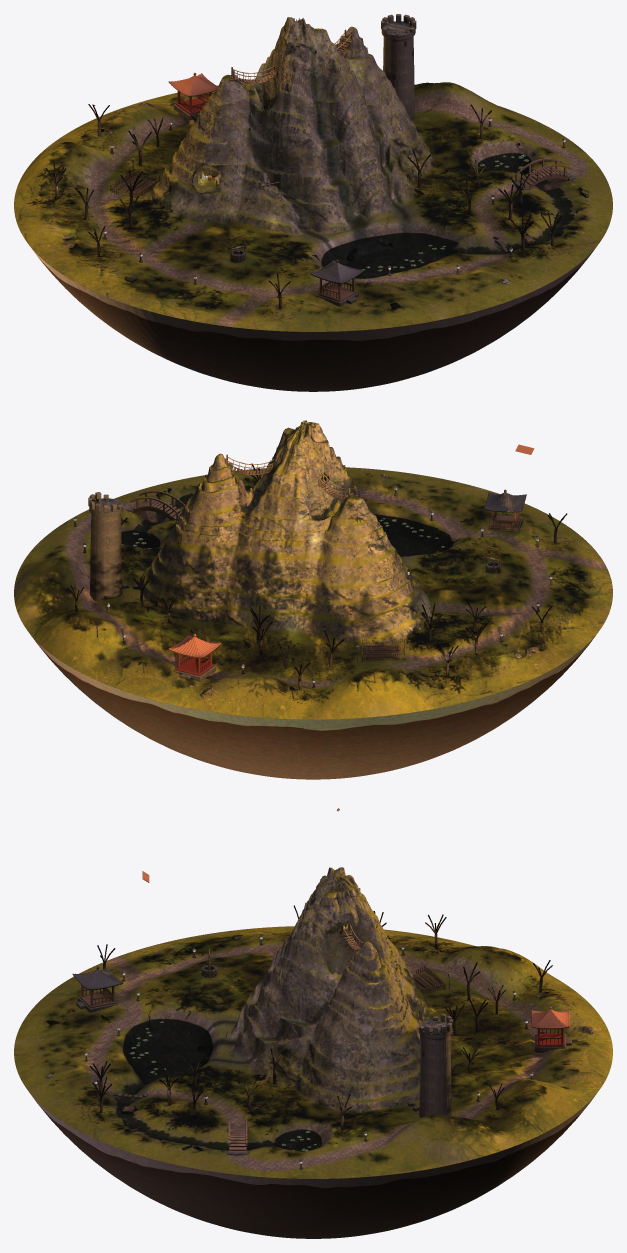
File: static.glb
The picture shows the model from 3 angles, top to bottom: view 1: azimuth 30°, elevation 25°; view 2: azimuth 150°, elevation 25°; view 3: azimuth 270°, elevation 25°; orthographic projection.
Visible parts, largest first — view 1: terrain_bake, cliffs_bake, soil_bake, struct_bake, rocks_bake; view 2: terrain_bake, cliffs_bake, soil_bake, struct_bake, rocks_bake; view 3: terrain_bake, cliffs_bake, soil_bake, struct_bake, rocks_bake.
Part boxes in pixels (<box>): terrain_bake: <box>14,17,612,331</box>; cliffs_bake: <box>18,17,535,267</box>; soil_bake: <box>14,85,612,391</box>; struct_bake: <box>46,14,575,308</box>; rocks_bake: <box>61,102,588,309</box>; terrain_bake: <box>15,420,612,719</box>; cliffs_bake: <box>14,420,460,718</box>; soil_bake: <box>14,467,612,779</box>; struct_bake: <box>69,444,567,690</box>; rocks_bake: <box>125,474,577,698</box>; terrain_bake: <box>14,867,612,1178</box>; cliffs_bake: <box>119,867,576,1167</box>; soil_bake: <box>14,926,612,1238</box>; struct_bake: <box>72,808,571,1169</box>; rocks_bake: <box>45,935,595,1151</box>.
Size of the model in its own units: 1.67 by 1.03 by 1.67.
5 materials, 5 textured.
